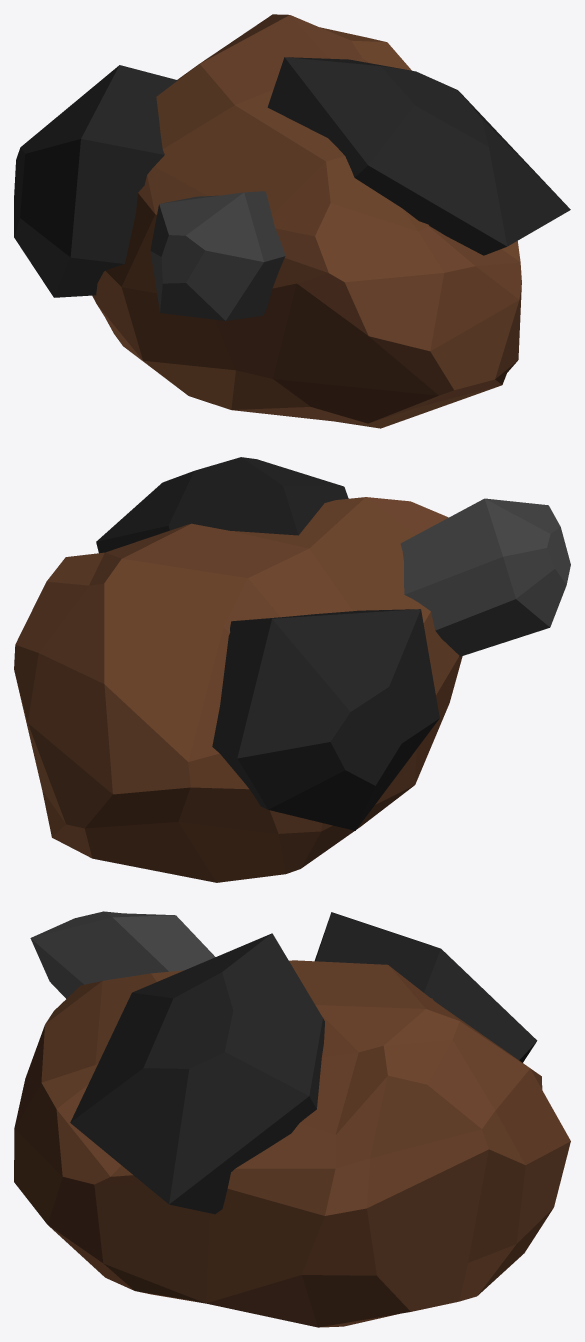
Rendered from MineralNode_04_A.fbx.
3 renders of one model, top to bottom at view 1: azimuth 30°, elevation 25°; view 2: azimuth 150°, elevation 25°; view 3: azimuth 270°, elevation 25°, orthographic. The views are drawn at different scales.
Parts seen in each view (by area): view 1: MineralNode_04_A; view 2: MineralNode_04_A; view 3: MineralNode_04_A.
Boxes of the visible parts, x1,y1,x2,y2 form: MineralNode_04_A: (14,14,570,428); MineralNode_04_A: (14,457,570,882); MineralNode_04_A: (14,911,570,1327).
Size of the model in its own units: 89.81 by 66.71 by 103.
